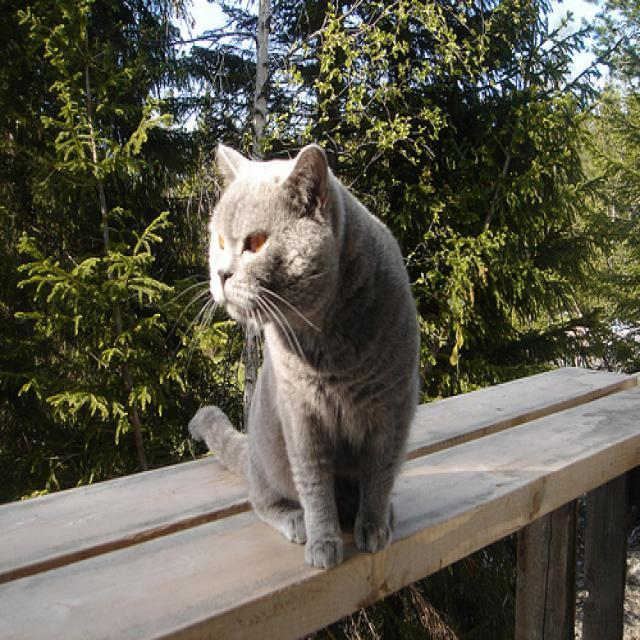British_Shorthair: (200, 129, 368, 340)
